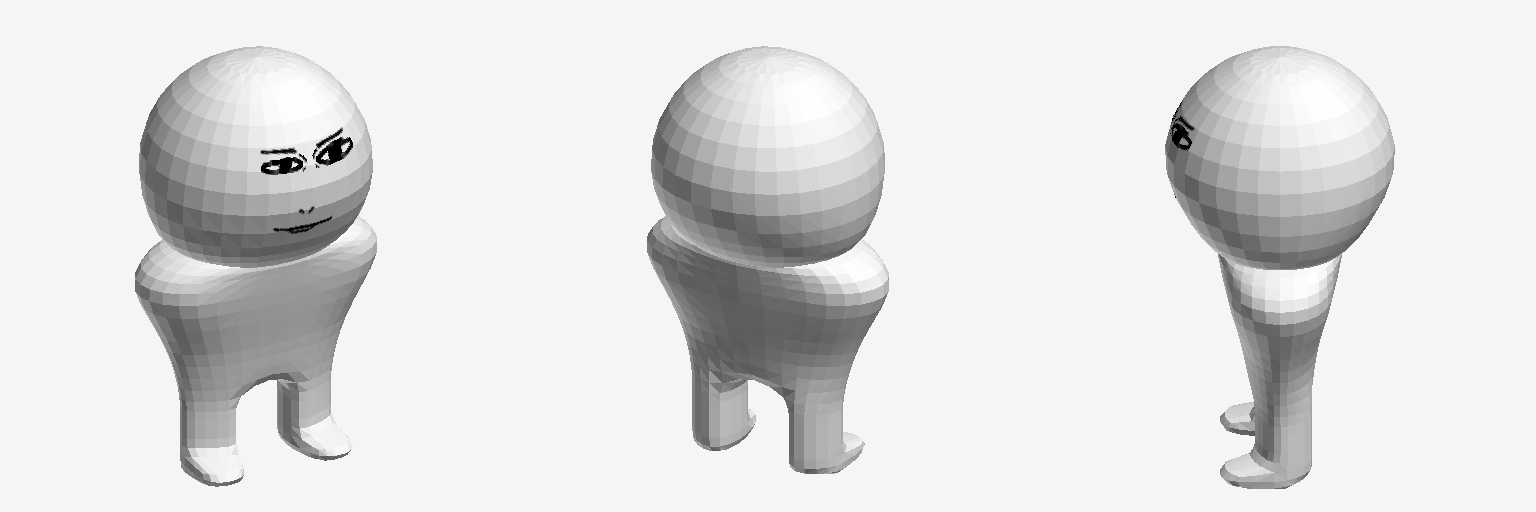
3 renders of one model, left to right at view 1: azimuth 30°, elevation 25°; view 2: azimuth 150°, elevation 25°; view 3: azimuth 270°, elevation 25°, orthographic.
Parts seen in each view (by area): view 1: SubMesh_0; view 2: SubMesh_0; view 3: SubMesh_0.
Boxes of the visible parts, x1,y1,x2,y2 form: SubMesh_0: [135, 46, 376, 486]; SubMesh_0: [647, 46, 888, 473]; SubMesh_0: [1165, 46, 1394, 488].
Size of the model in its own units: 0.8111 by 1.33 by 0.6943.
1 materials, 1 textured.